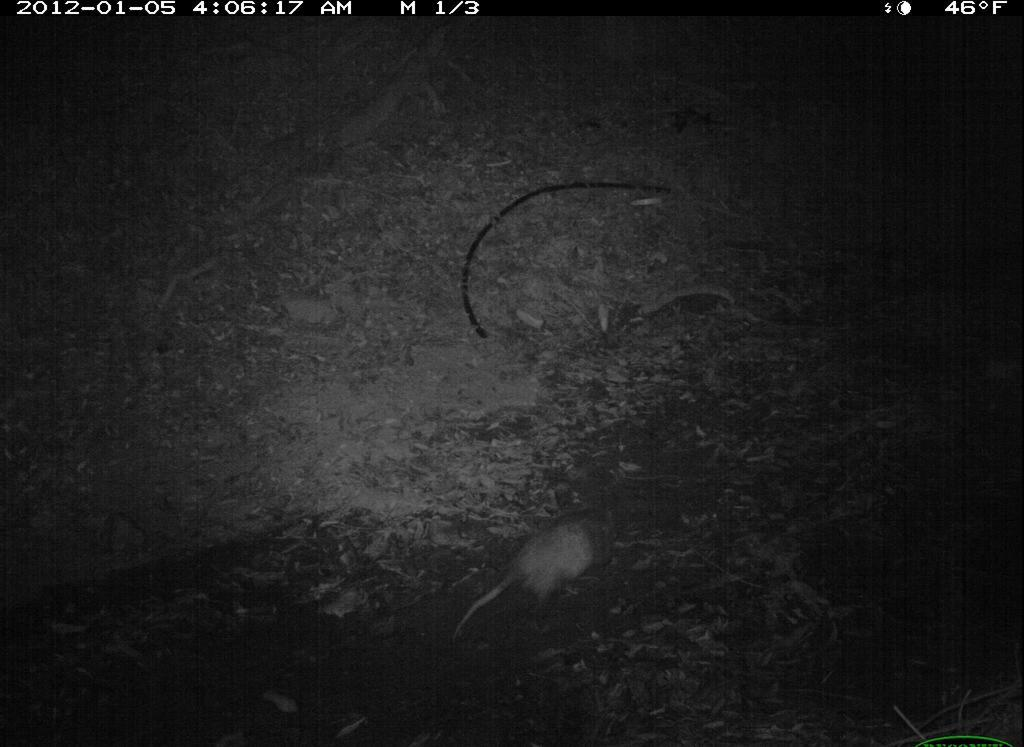opossum: (433, 502, 630, 661)
